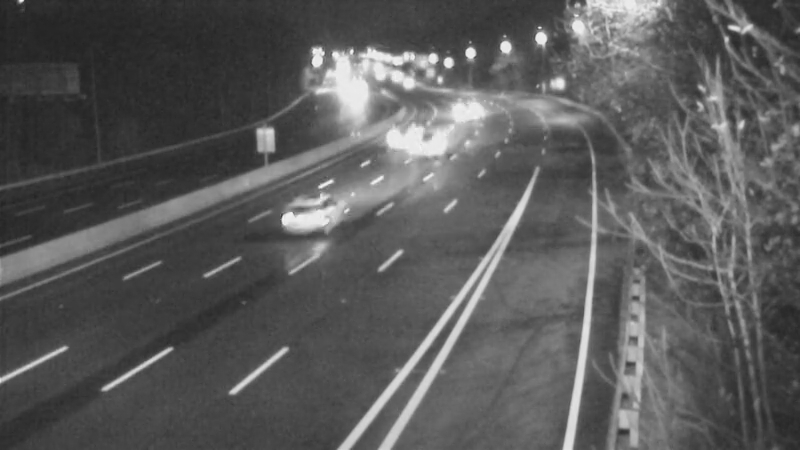vehicle: (259, 181, 339, 261), (381, 59, 431, 109), (446, 85, 496, 135), (374, 107, 424, 157), (414, 116, 464, 166)
